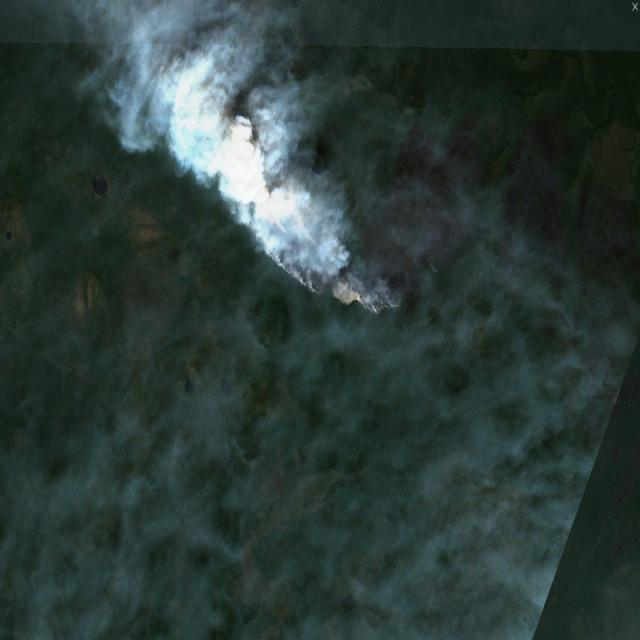fire: (241, 195, 411, 319)
